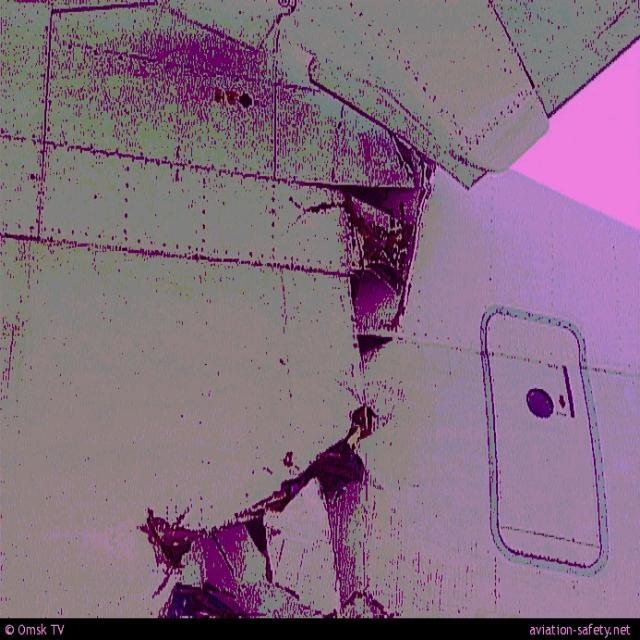crack: (133, 399, 381, 601)
